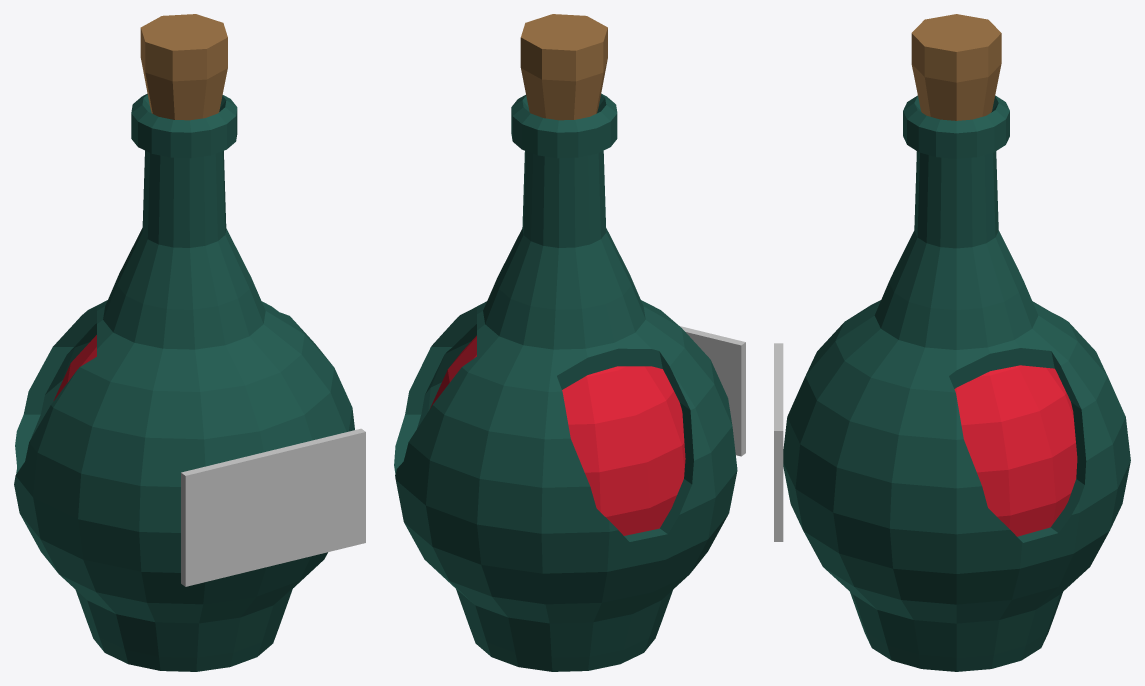
The model's file is potion.obj.
3 renders of one model, left to right at view 1: azimuth 30°, elevation 25°; view 2: azimuth 150°, elevation 25°; view 3: azimuth 270°, elevation 25°, orthographic.
Parts seen in each view (by area): view 1: A_Flask.001_potion_glass, C_Label.001_potion_label, S_Cork.001_potion_cork, A_Liquid.001_potion_liquid; view 2: A_Flask.001_potion_glass, A_Liquid.001_potion_liquid, S_Cork.001_potion_cork, C_Label.001_potion_label; view 3: A_Flask.001_potion_glass, A_Liquid.001_potion_liquid, S_Cork.001_potion_cork, C_Label.001_potion_label.
Boxes of the visible parts, bbox=[...] form: A_Flask.001_potion_glass: bbox=[14, 93, 354, 671]; C_Label.001_potion_label: bbox=[181, 428, 365, 586]; S_Cork.001_potion_cork: bbox=[140, 14, 227, 120]; A_Liquid.001_potion_liquid: bbox=[53, 335, 96, 400]; A_Flask.001_potion_glass: bbox=[394, 93, 737, 671]; A_Liquid.001_potion_liquid: bbox=[430, 335, 685, 535]; S_Cork.001_potion_cork: bbox=[520, 14, 607, 120]; C_Label.001_potion_label: bbox=[680, 326, 745, 456]; A_Flask.001_potion_glass: bbox=[783, 95, 1130, 671]; A_Liquid.001_potion_liquid: bbox=[954, 365, 1077, 536]; S_Cork.001_potion_cork: bbox=[911, 14, 1001, 120]; C_Label.001_potion_label: bbox=[774, 343, 783, 541].
Size of the model in its own units: 1.14 by 2.16 by 1.17.
